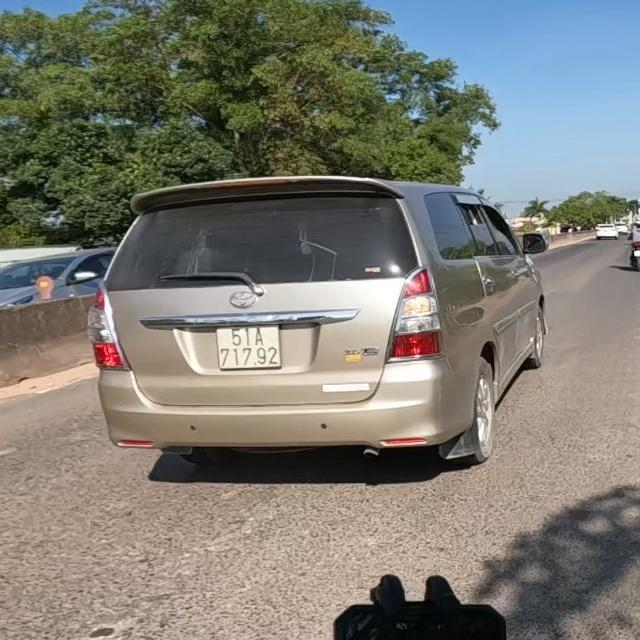car: (91, 170, 557, 474)
plate: (216, 321, 284, 373)
